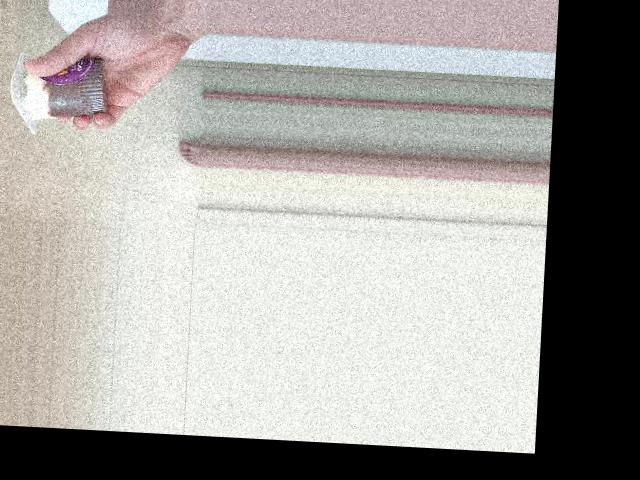milky: (2, 49, 118, 128)
